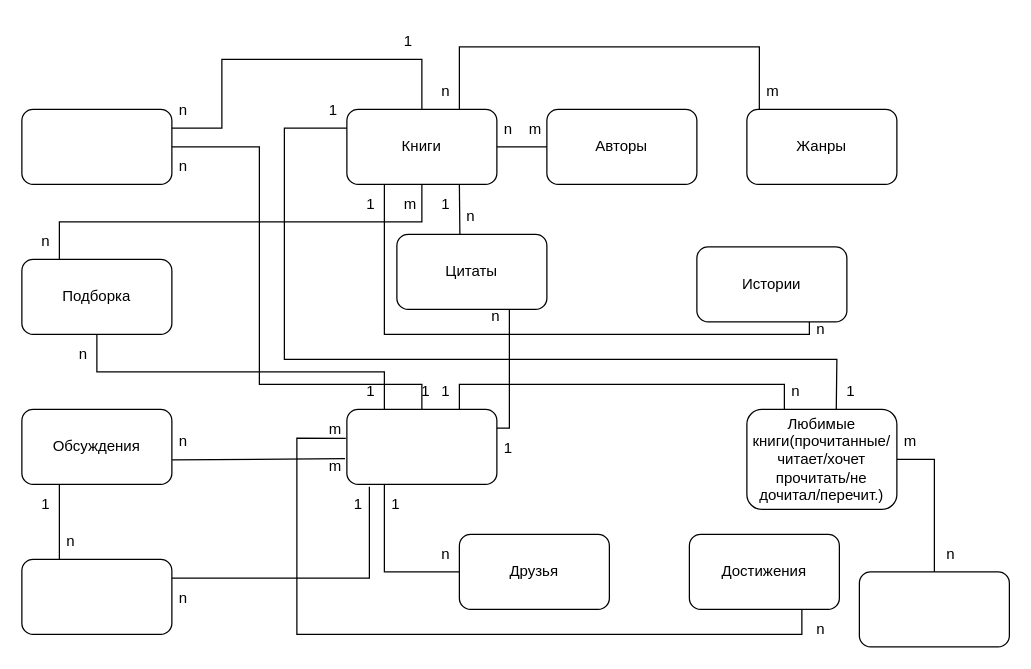
Some shapes in this 1031 by 669 pixel diagram are drawn without their labels. Each missing label, with the centre of its shape:
"Отзывы" belongs at (96,146).
"Пользователи" belongs at (421,446).
"Статьи" belongs at (96,596).
"Тип отношения пользователь-книга" belongs at (933,609).
